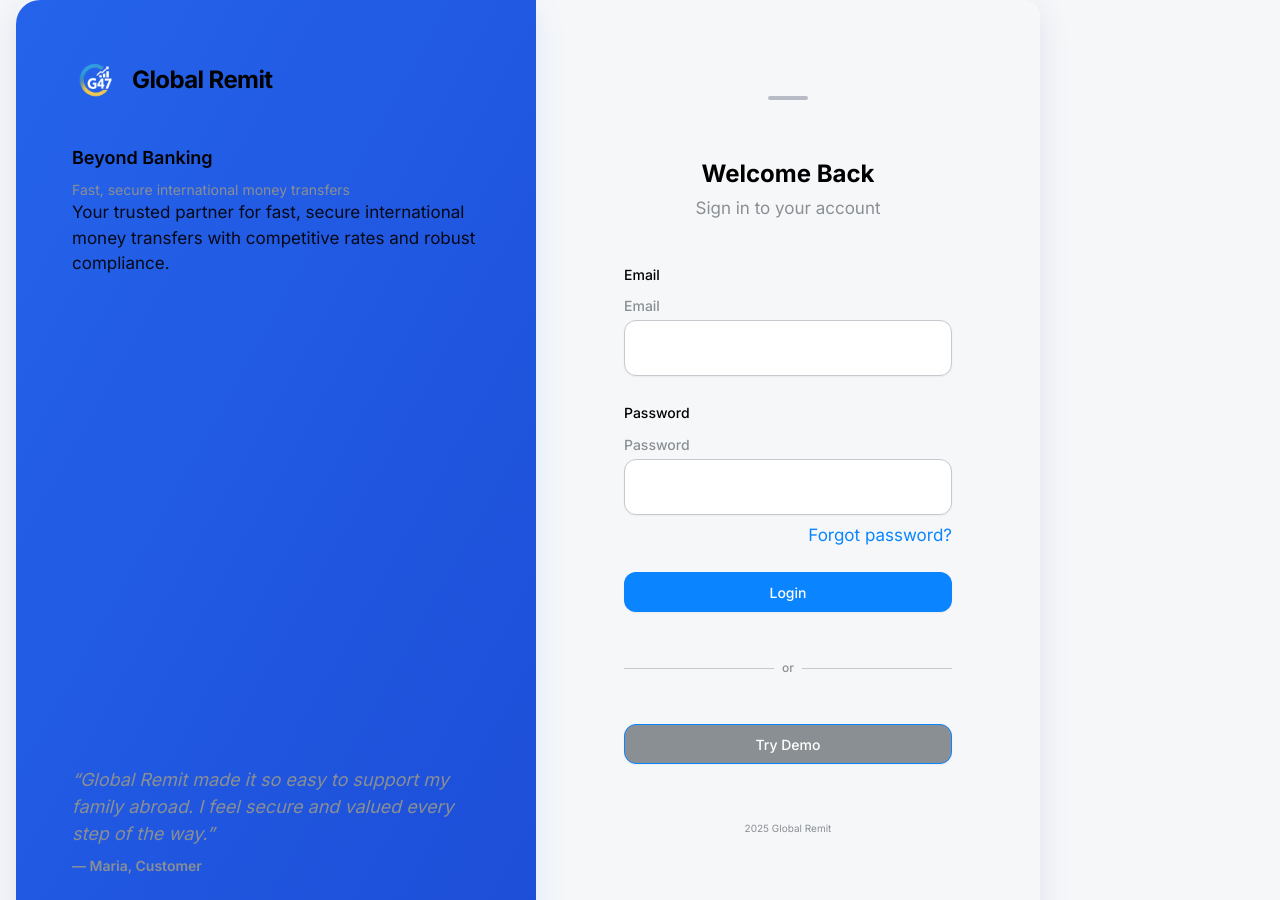
Test case: LoginForm › should show error message for invalid credentials
In the field labelled "Email": (788, 348) x1=624 y1=320 x2=952 y2=376, type "wrong@example.com"
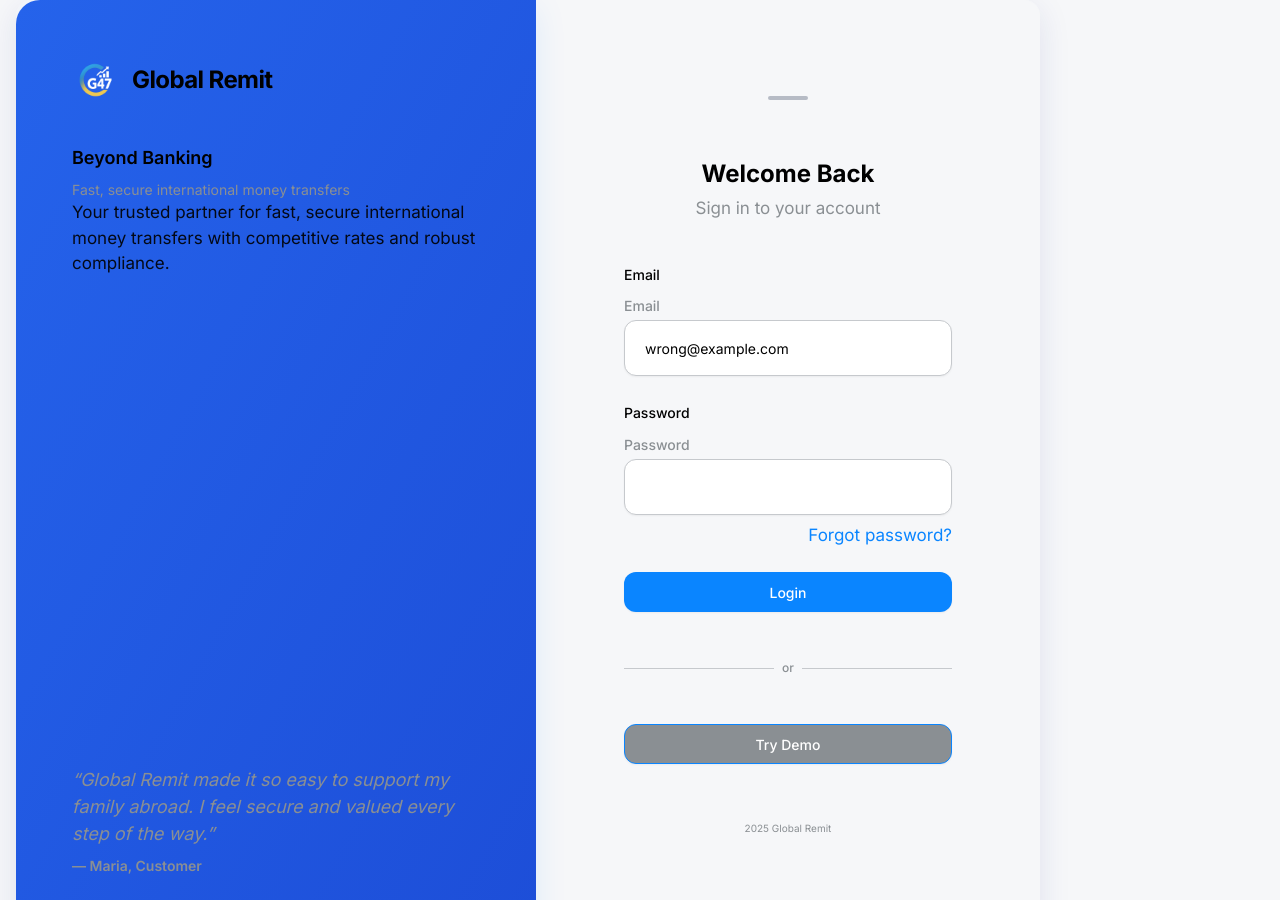
In the password field labelled "Password": (788, 486) x1=624 y1=458 x2=952 y2=514, type "wrongpassword"
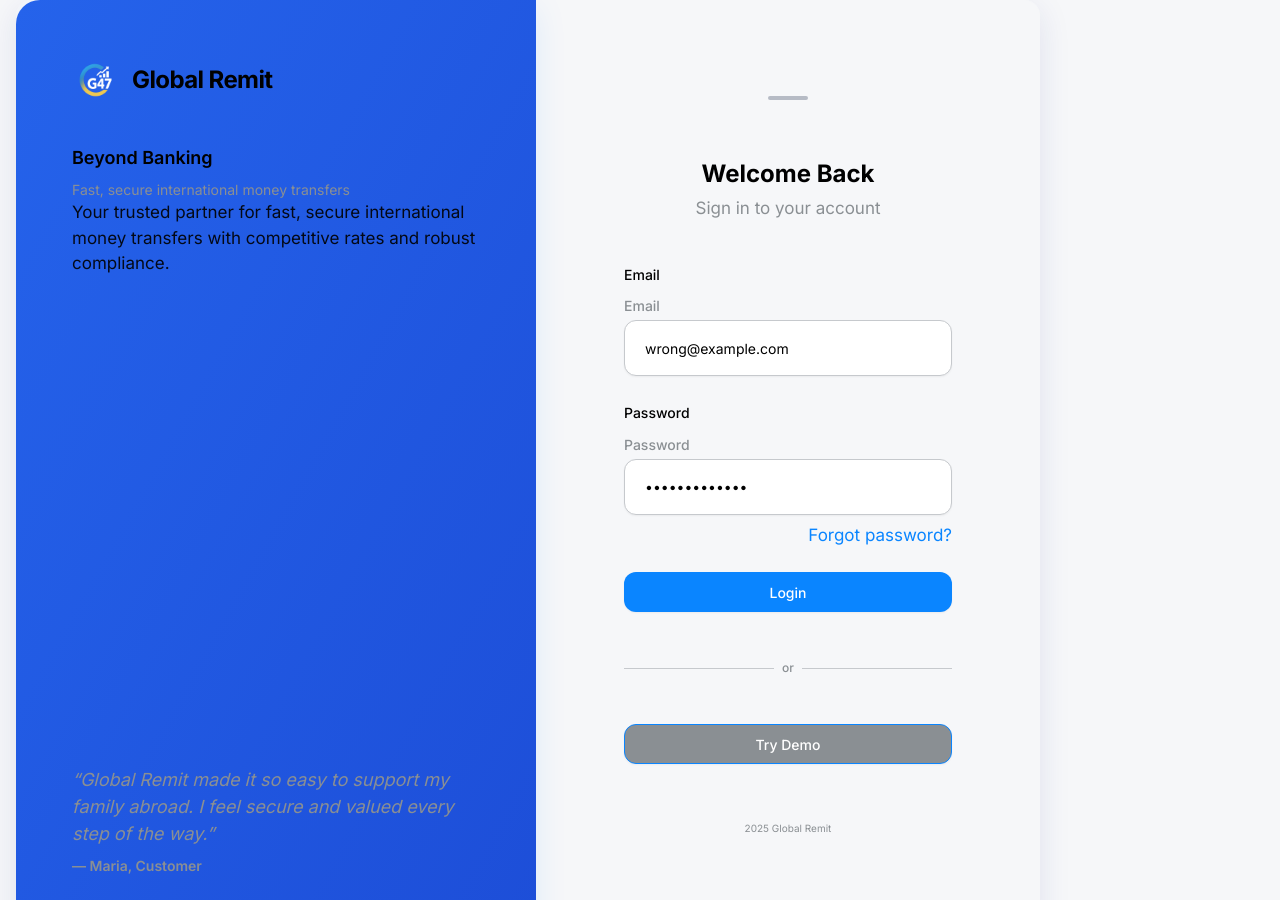
Click the button "Login": (788, 592) x1=624 y1=572 x2=952 y2=612
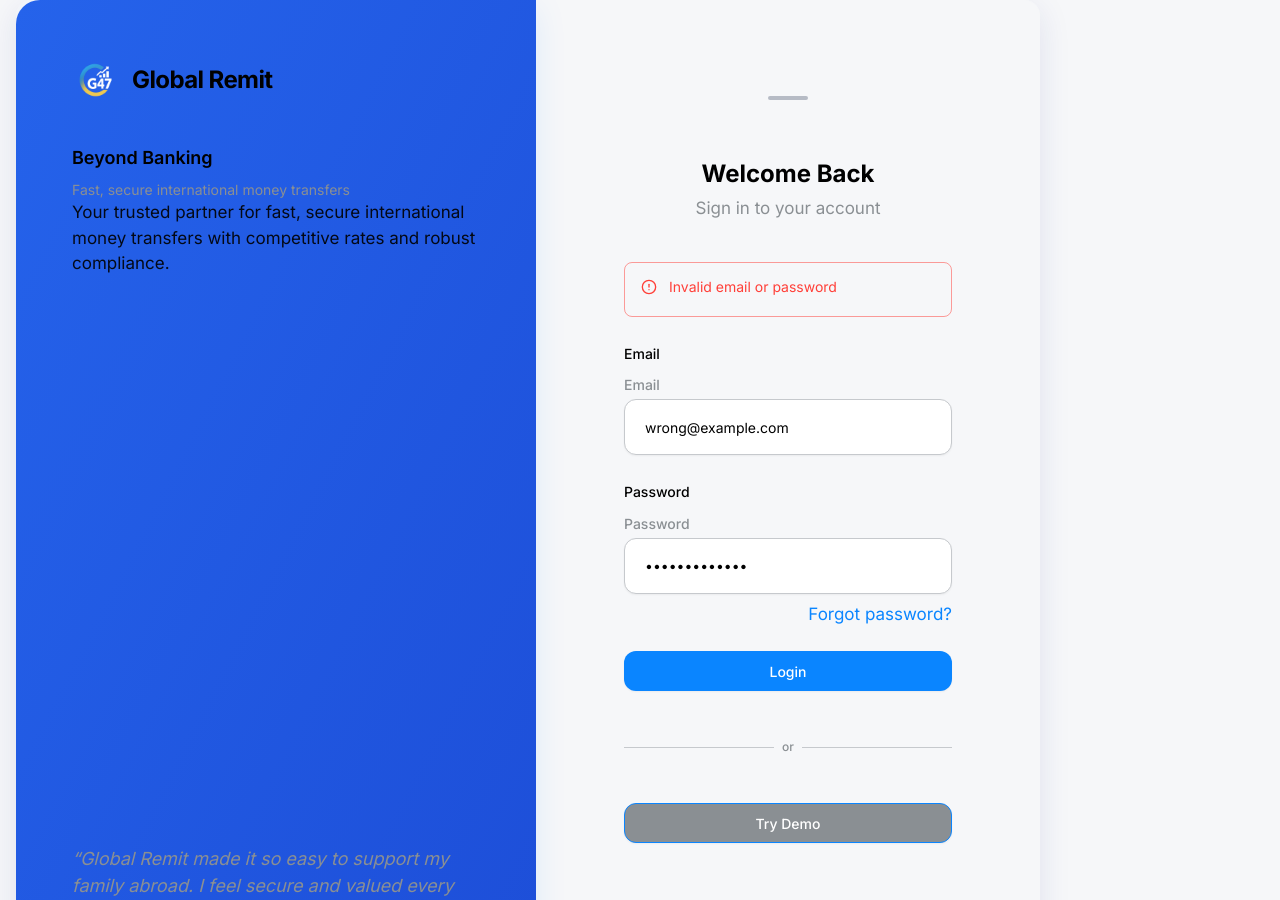
Result: the text "Invalid email or password" is shown at x1=669 y1=278 x2=837 y2=294
